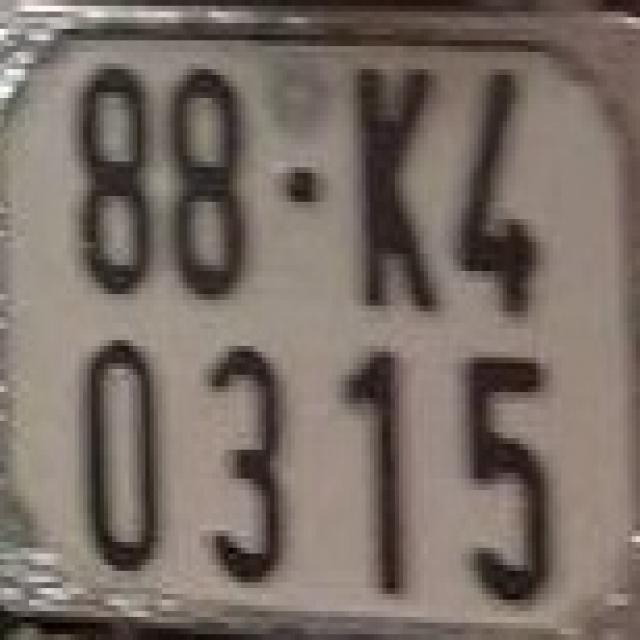0: (75, 328, 166, 576)
1: (341, 346, 411, 600)
3: (204, 340, 286, 588)
4: (457, 58, 545, 323)
5: (461, 346, 553, 605)
8: (166, 58, 254, 300), (70, 58, 154, 300)
K: (345, 52, 440, 317)
